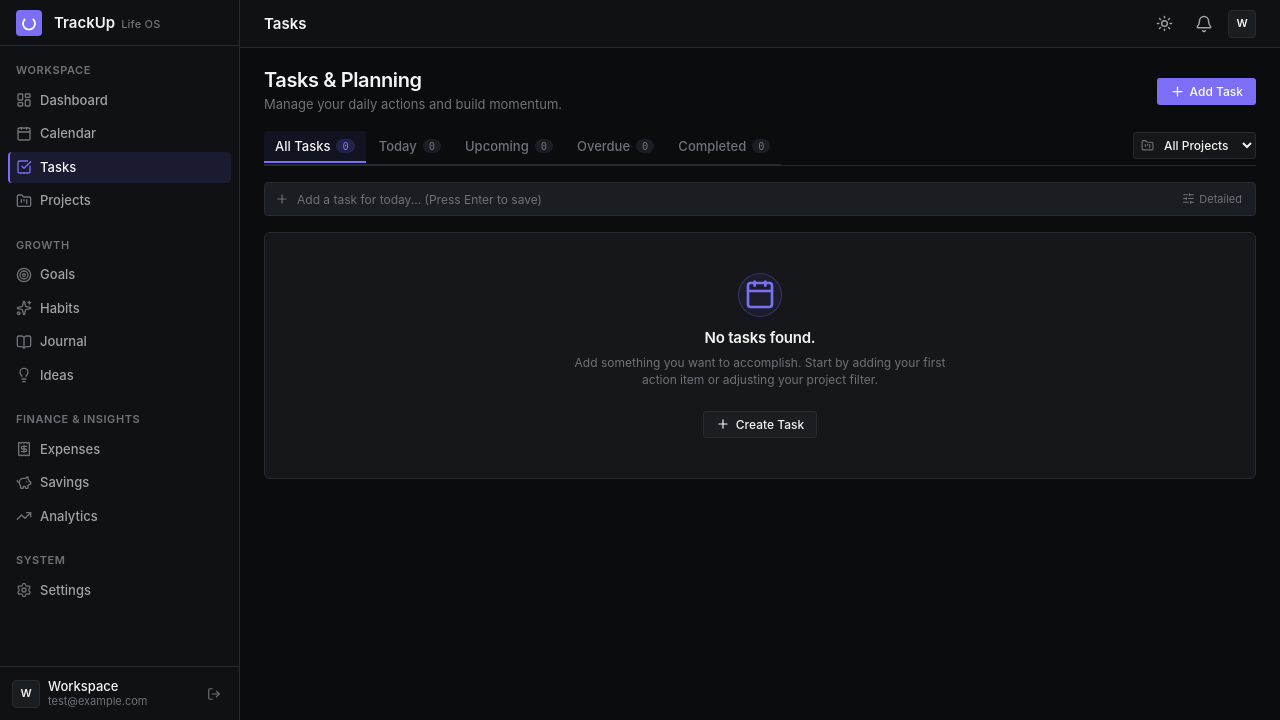
Milestone 2 & 3: Tasks & Dashboard Integration › Tasks Page (/tasks) › opens task creation modal and adds newly created task to list
Check: the heading "No tasks found." is shown, box top-left (705, 328), bottom-right (815, 347)
Note: Open creation modal
Click the button "Add Task" at coordinates (1206, 91), box top-left (1157, 78), bottom-right (1256, 105)
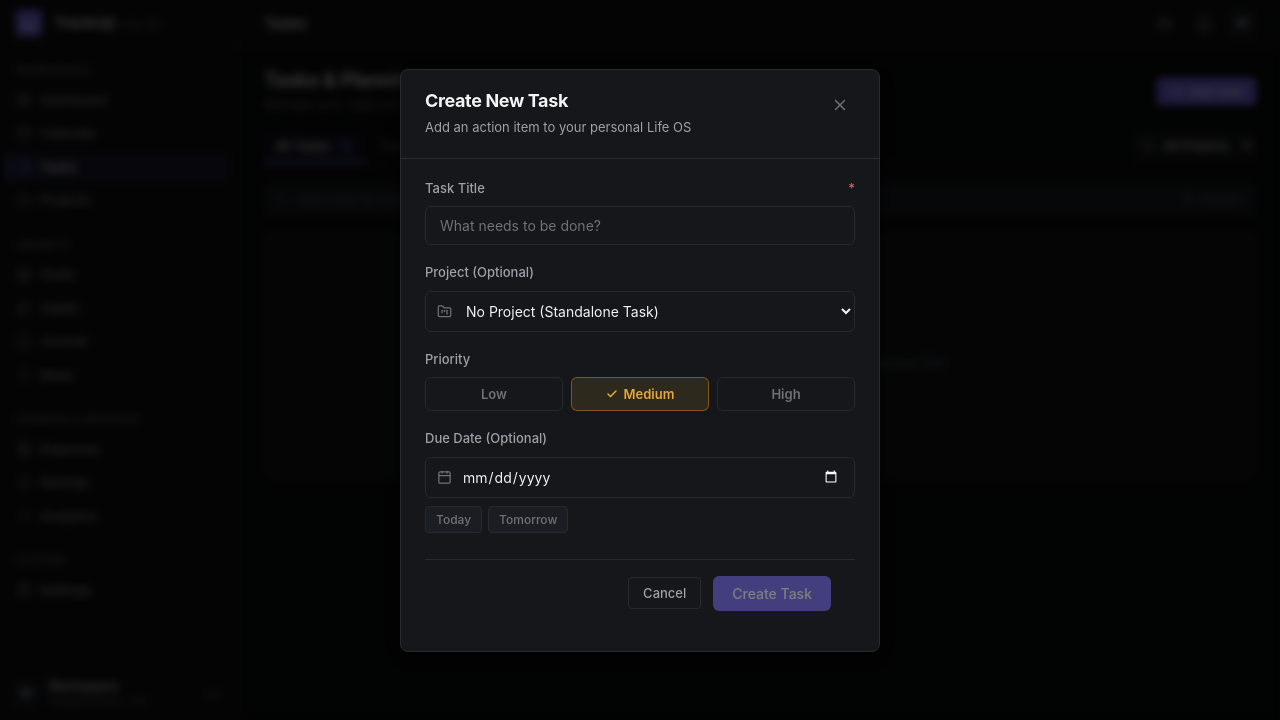
Check: the heading "Create New Task" is shown, box top-left (425, 90), bottom-right (568, 110)
Note: Fill in title
Type "Write integration tests" into the field labelled "Task Title *" at coordinates (640, 226), box top-left (425, 206), bottom-right (855, 245)
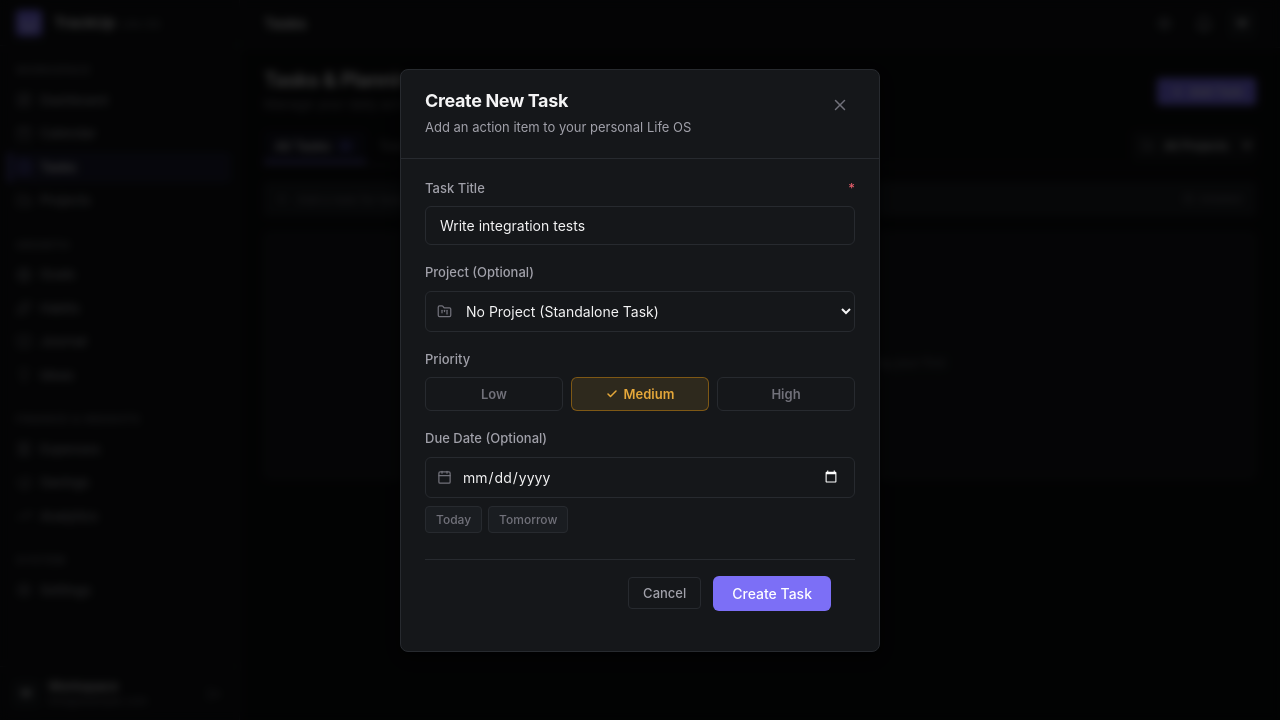
Note: Select high priority
Click the radio button labelled "High" at coordinates (786, 394), box top-left (717, 377), bottom-right (855, 411)
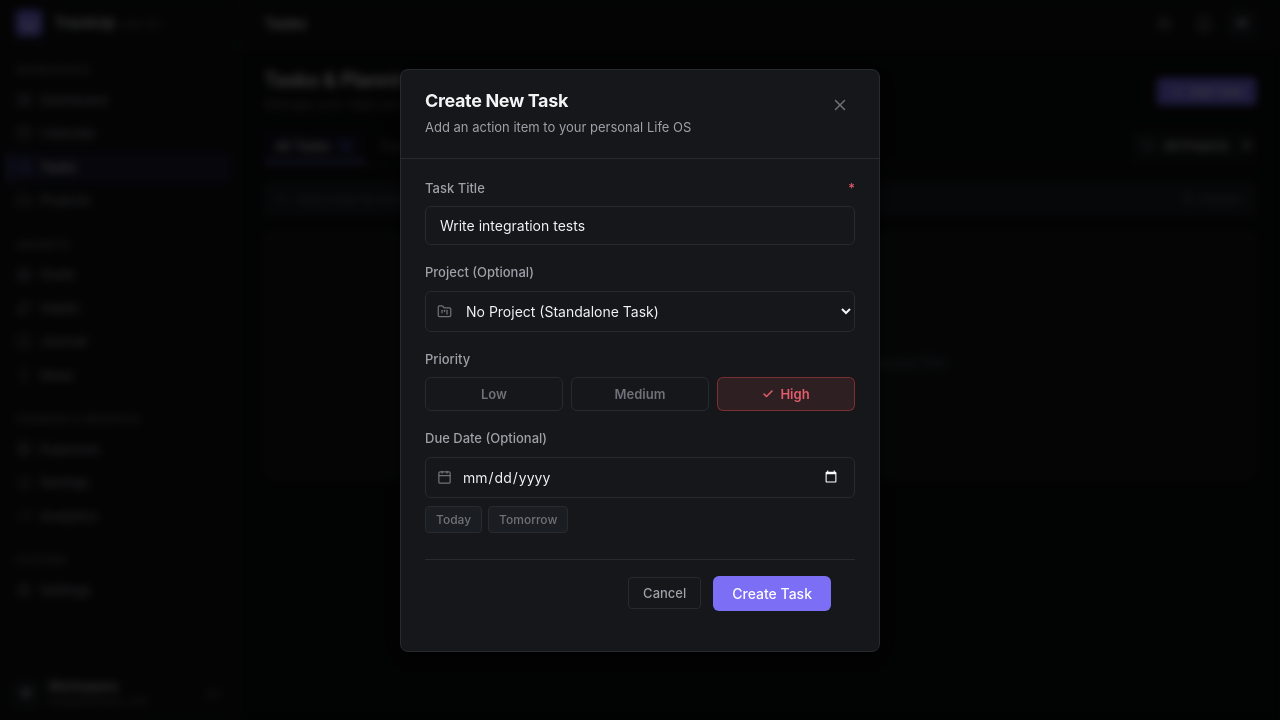
Note: Submit form
Click the button "Create Task" at coordinates (772, 593), box top-left (713, 576), bottom-right (831, 610)
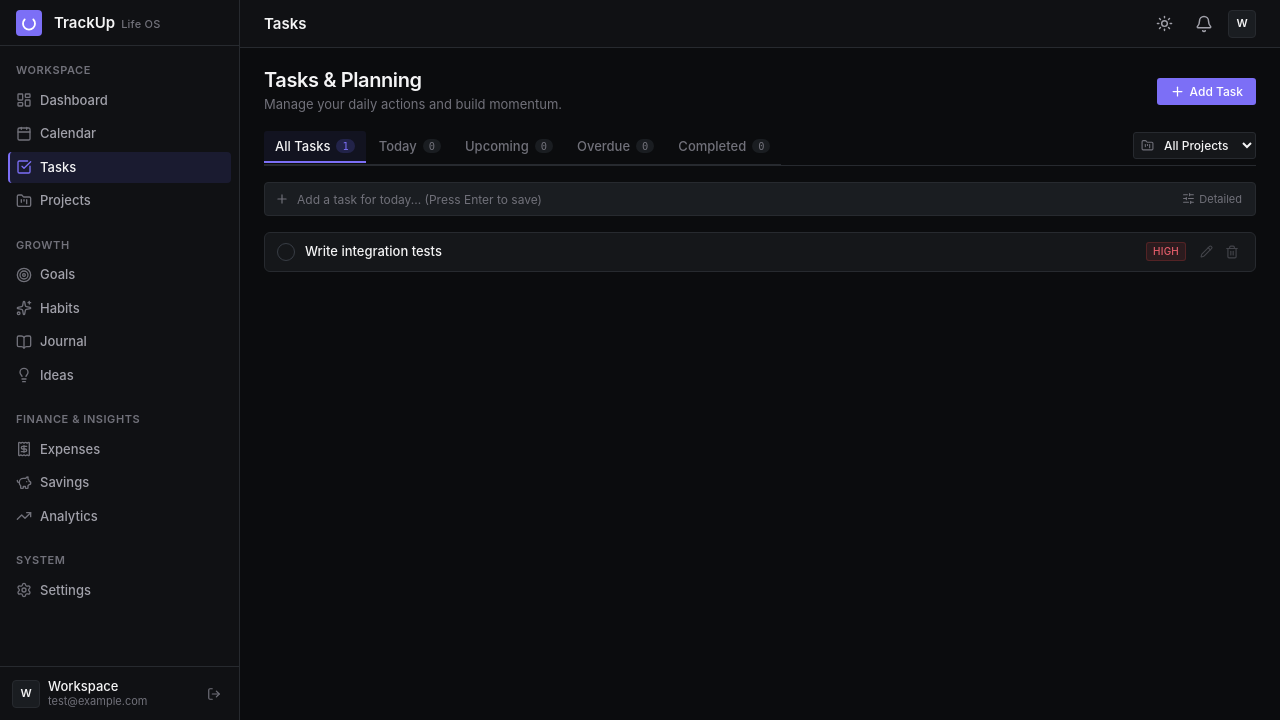
Check: the text "Write integration tests" is shown, box top-left (305, 243), bottom-right (442, 259)
